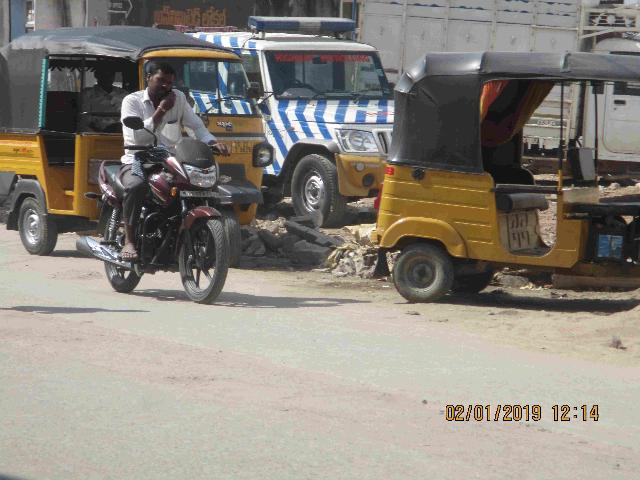motor: (79, 142, 229, 305)
non-helm: (148, 63, 176, 100)
